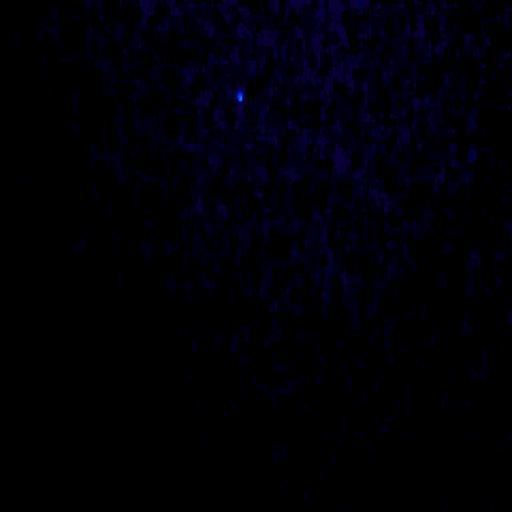object-detection-project: (238, 92, 243, 101)
